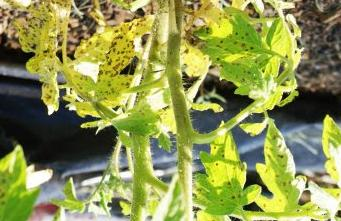Tomato Septoria leaf spot: (191, 7, 299, 96), (71, 8, 155, 97), (17, 0, 79, 106), (258, 122, 315, 218), (196, 137, 258, 215)
